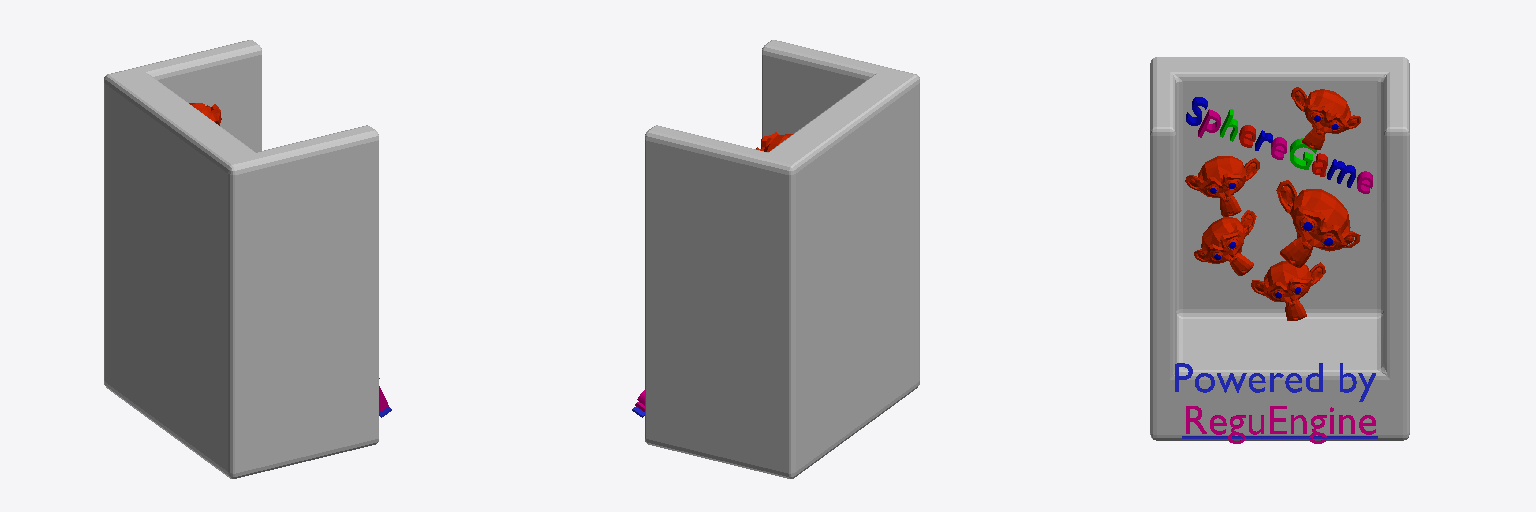
The model's file is SphereGameMachine.obj.
3 views of the same model, side by side, from view 1: azimuth 30°, elevation 25°; view 2: azimuth 150°, elevation 25°; view 3: azimuth 270°, elevation 25° (orthographic).
Parts seen in each view (by area): view 1: Cube; view 2: Cube; view 3: Cube, Text.001, Suzanne, Text, Suzanne.003, Suzanne.004, Suzanne.001, Suzanne.002.
Part boxes in pixels (bbox=[...]): Cube: bbox=[104, 40, 378, 478]; Cube: bbox=[645, 40, 919, 478]; Cube: bbox=[1150, 57, 1409, 440]; Text.001: bbox=[1175, 363, 1377, 443]; Suzanne: bbox=[1276, 180, 1360, 267]; Text: bbox=[1186, 97, 1372, 193]; Suzanne.003: bbox=[1185, 156, 1259, 216]; Suzanne.004: bbox=[1291, 87, 1360, 149]; Suzanne.001: bbox=[1194, 210, 1256, 275]; Suzanne.002: bbox=[1251, 261, 1325, 320].
Size of the model in its own units: 2.38 by 4 by 3.